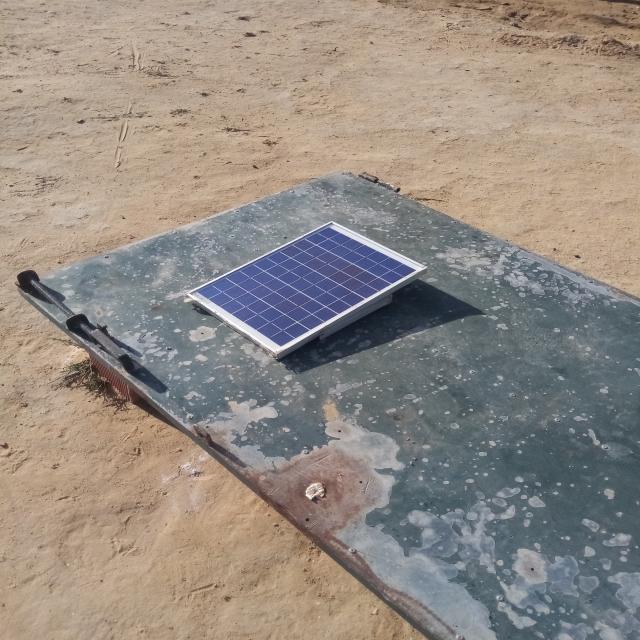no faulty: (187, 221, 427, 354)
